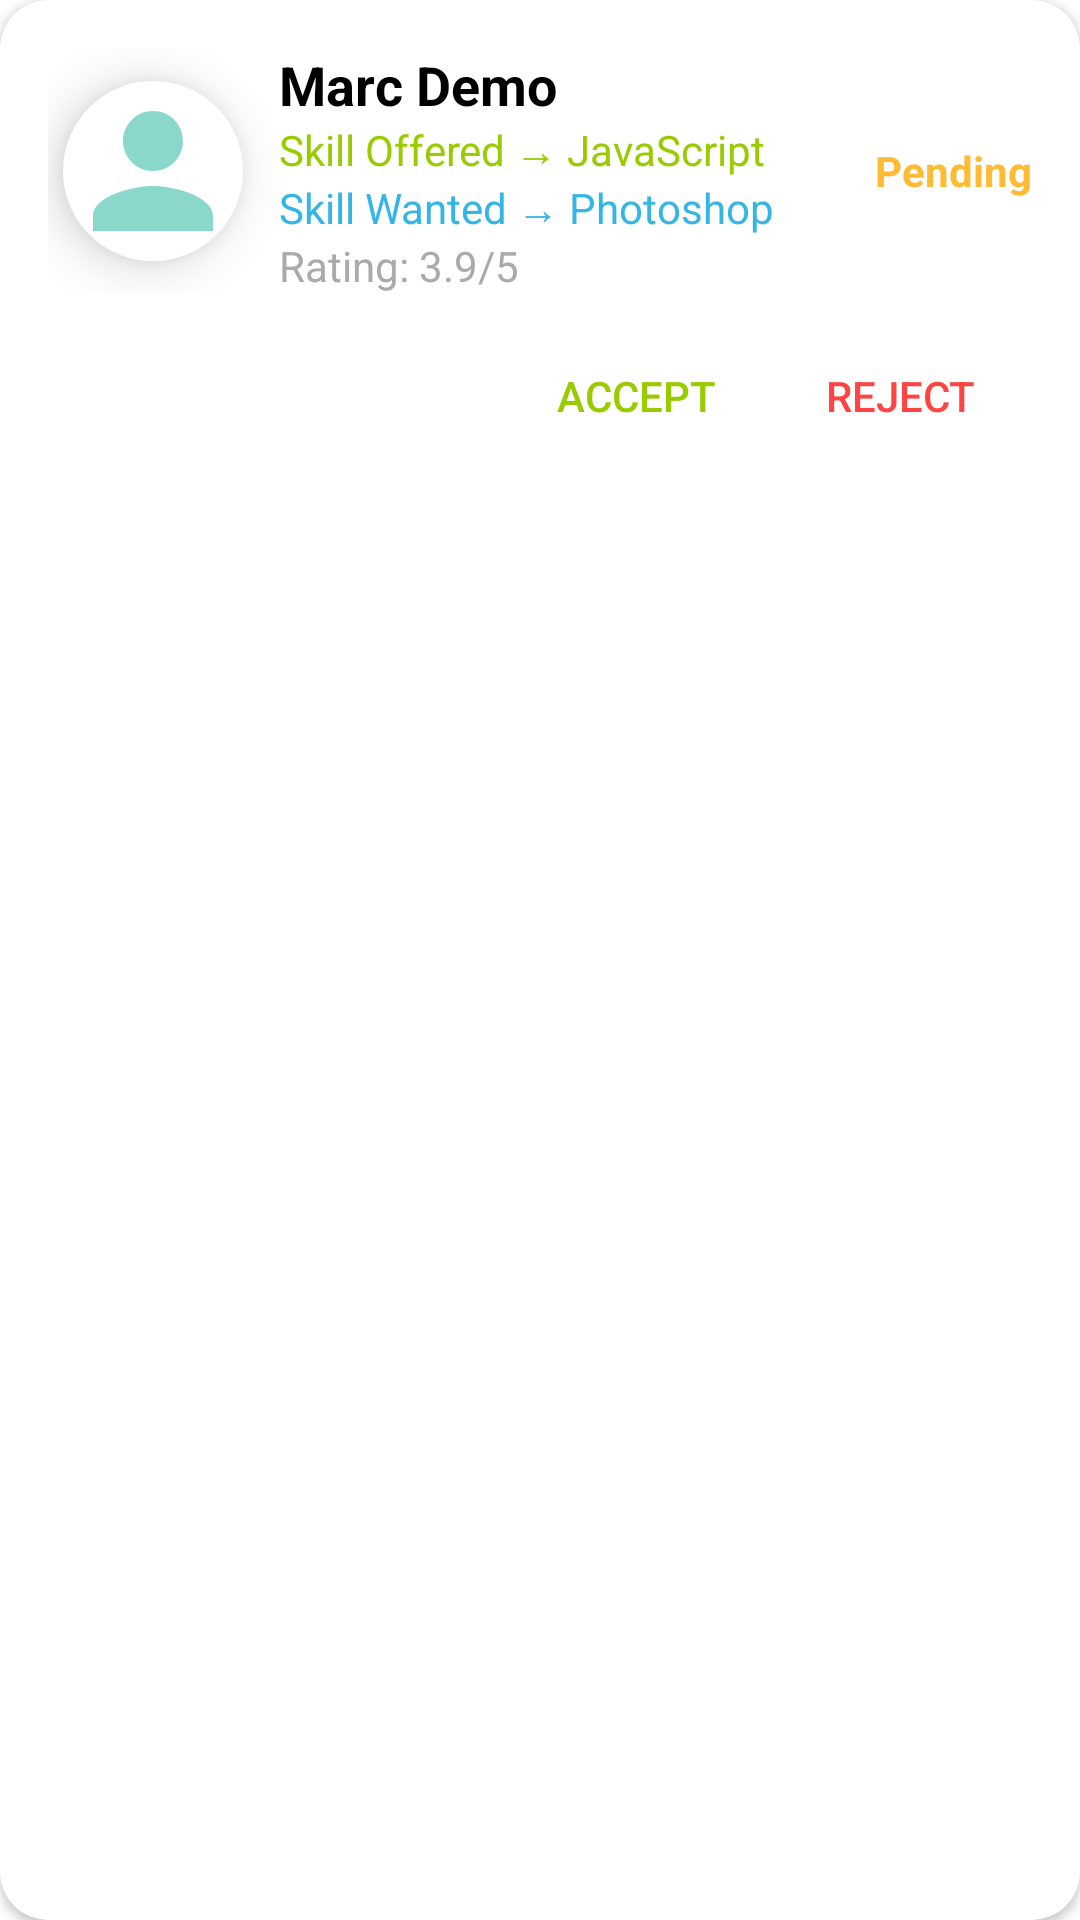

Screen size 1080x1920. Icon name, then its box in pixels as (x1, y1, x2, y2):
person: (63, 111, 213, 256)
